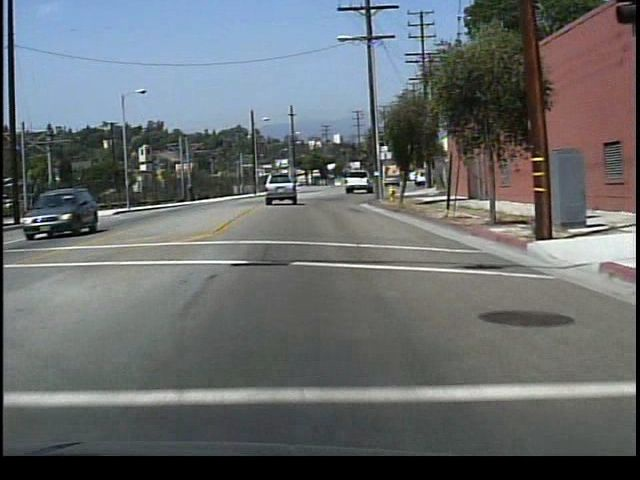person: (187, 180, 203, 204)
